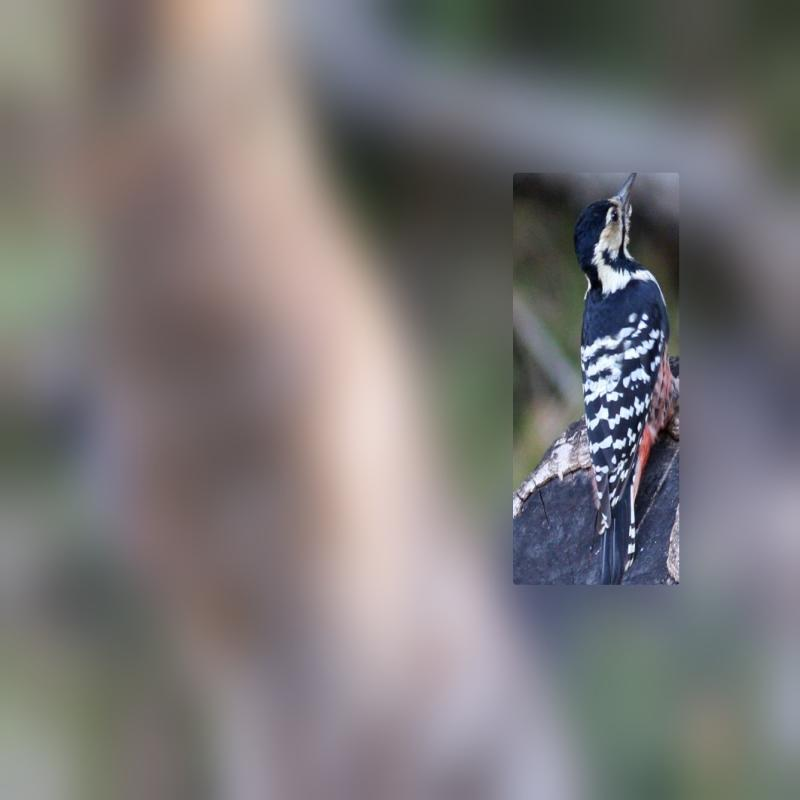white-backed woodpecker: (552, 166, 683, 586)
